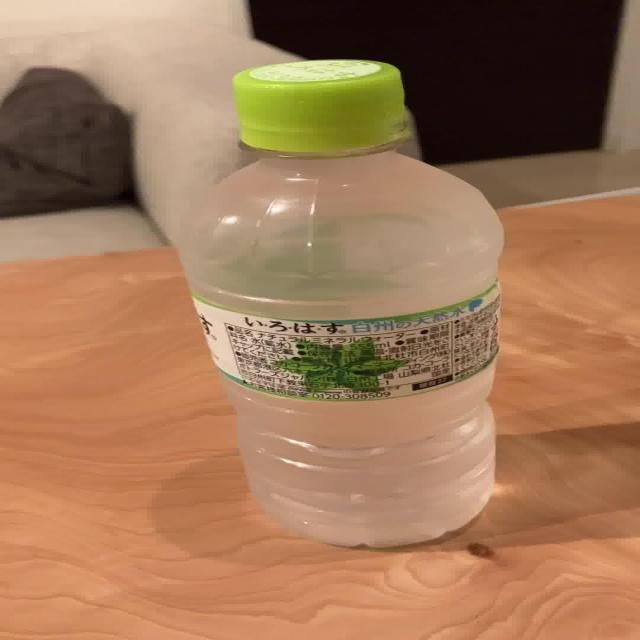chai: (178, 60, 502, 546)
